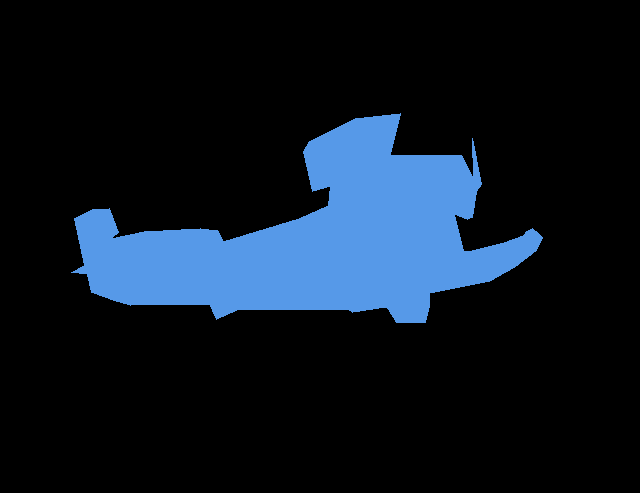Airplane: (71, 113, 543, 323)
